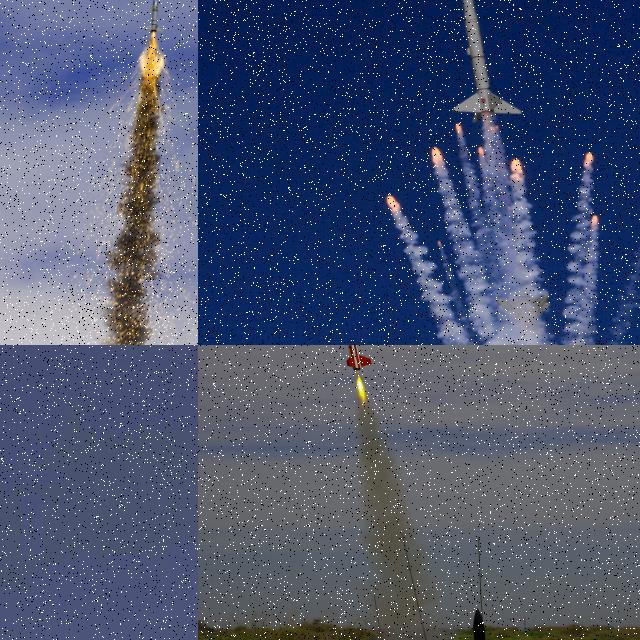Rocket: (444, 0, 524, 122), (465, 607, 505, 640), (338, 345, 371, 370), (145, 0, 163, 34)
